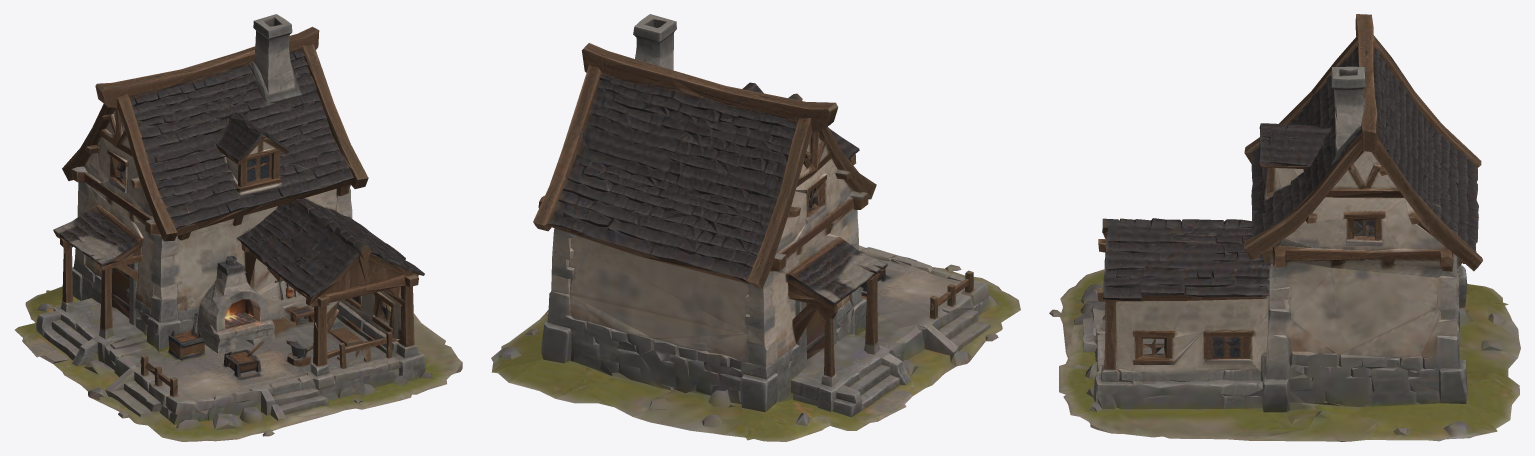
Rendered from blacksmith.glb.
3 views of the same model, side by side, from view 1: azimuth 30°, elevation 25°; view 2: azimuth 150°, elevation 25°; view 3: azimuth 270°, elevation 25° (orthographic). The views are drawn at different scales.
Size of the model in its own units: 1.72 by 1.41 by 1.9.
Materials: 1 (1 with a texture image).
